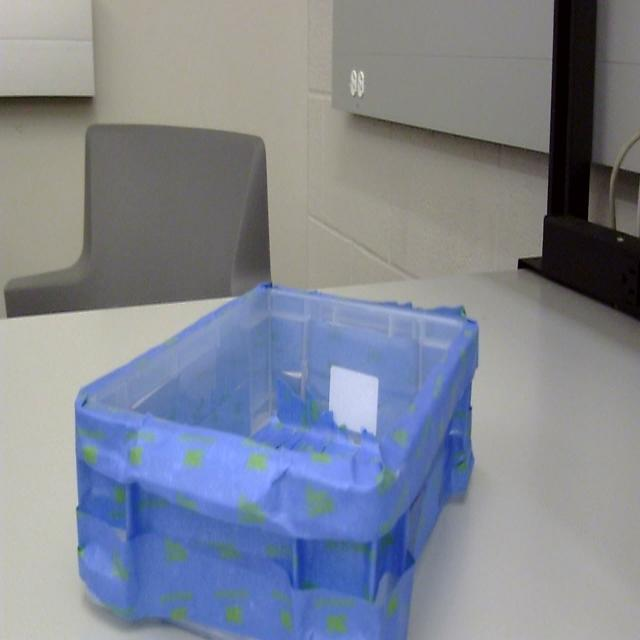bucket: (73, 284, 480, 640)
